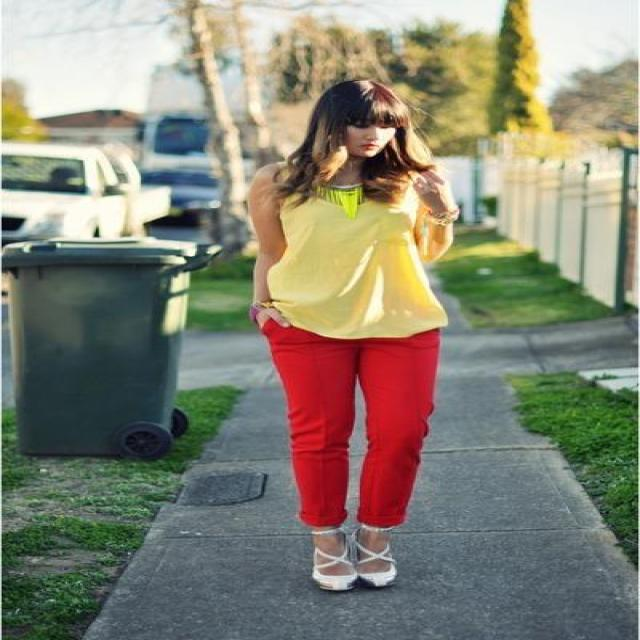pants: (261, 320, 437, 527)
shirt: (250, 192, 456, 338)
shoe: (312, 551, 395, 594)
